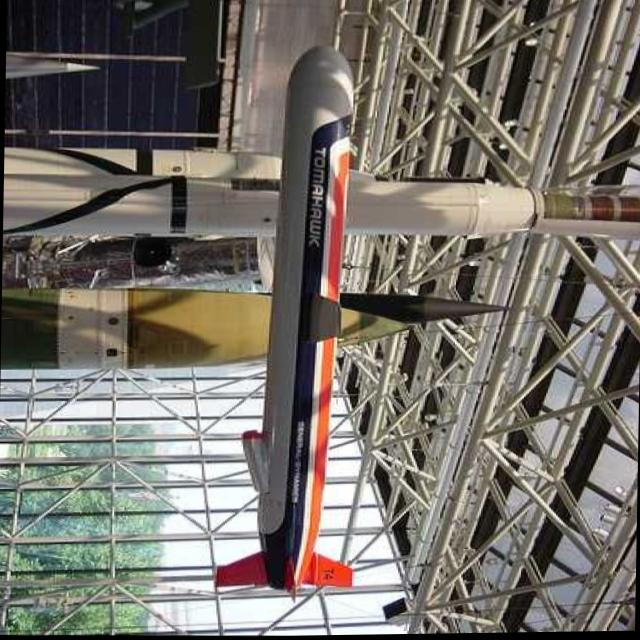missile: (210, 37, 376, 602)
